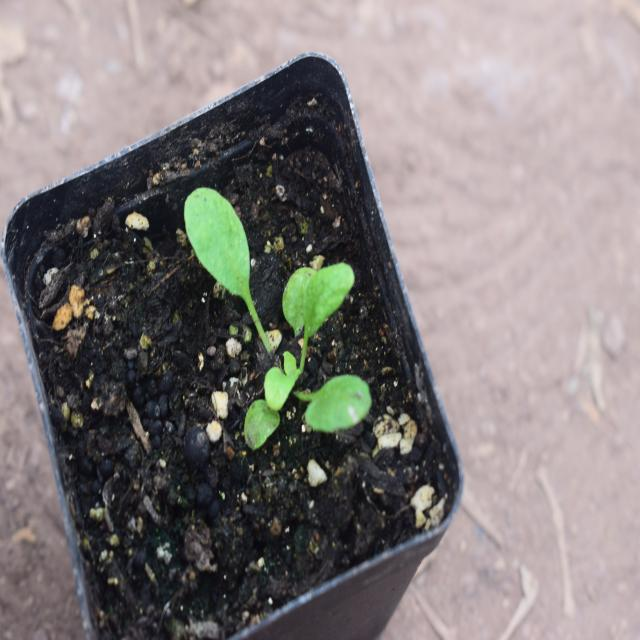Shepherd_Purse: (171, 175, 390, 452)
